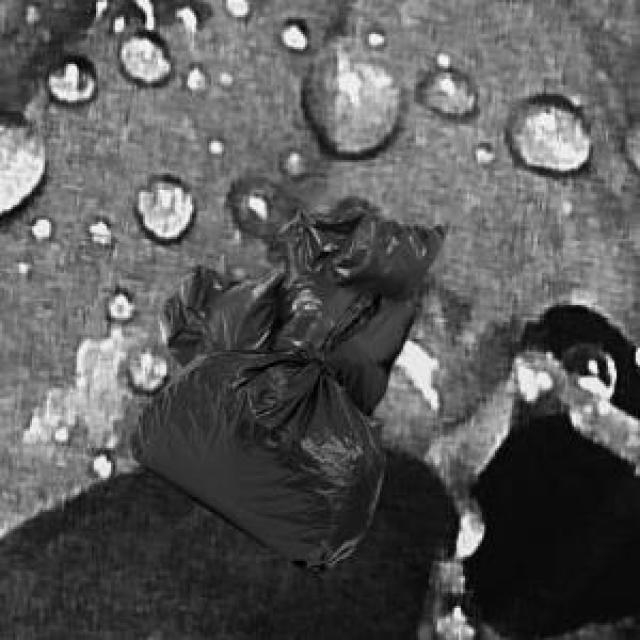miscellaneous trash: (126, 286, 382, 570), (154, 205, 444, 433)
